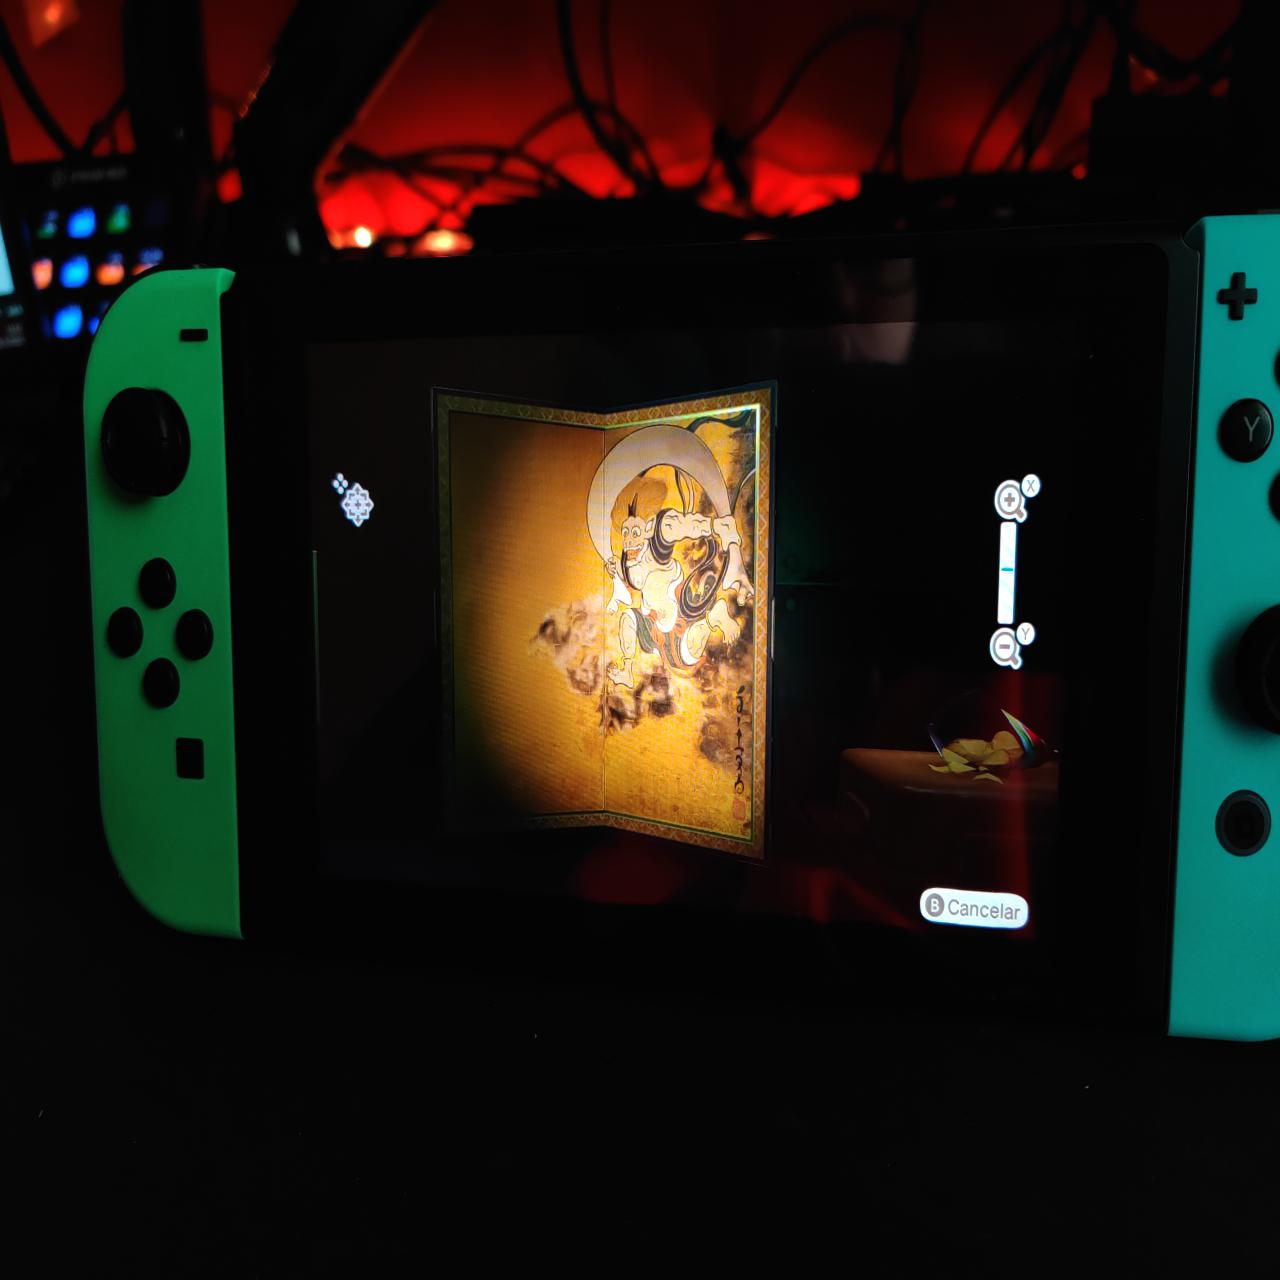FuujinFake: (430, 384, 769, 867)
